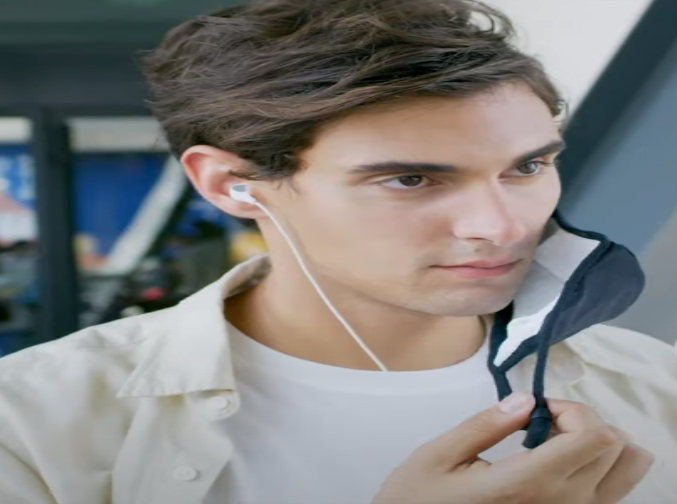mask_weared_incorrect: (156, 2, 649, 377)
